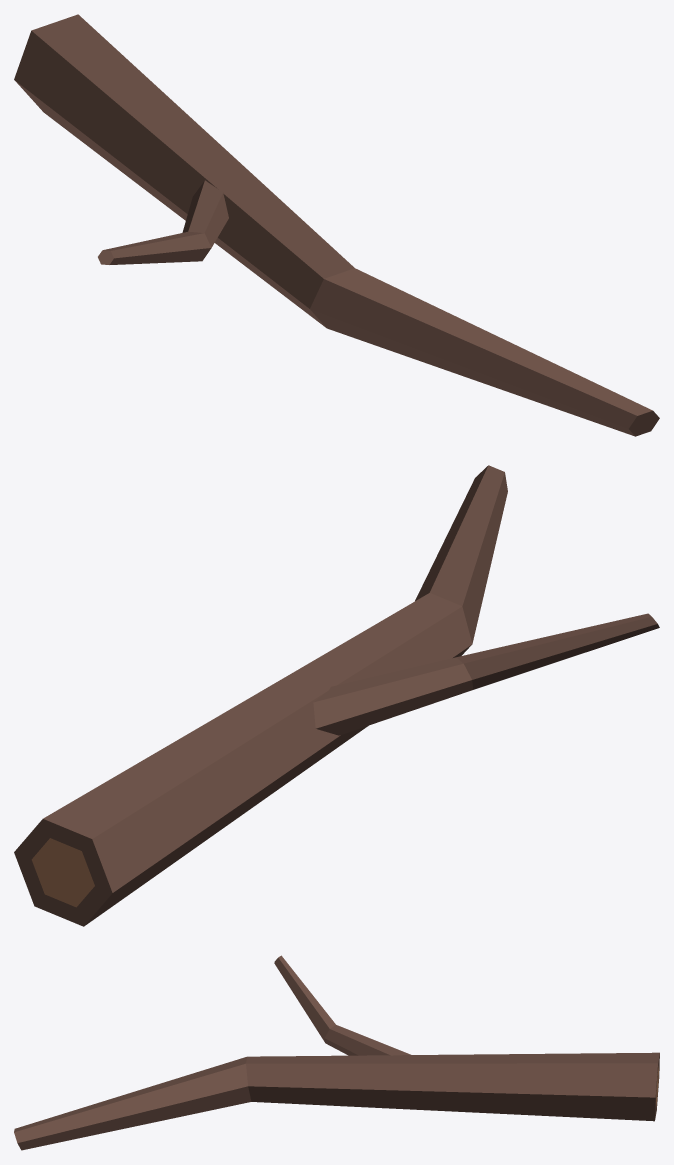
File: Branch_01.fbx
The picture shows the model from 3 angles, top to bottom: view 1: azimuth 30°, elevation 25°; view 2: azimuth 150°, elevation 25°; view 3: azimuth 270°, elevation 25°; orthographic projection. The views are drawn at different scales.
Visible parts, largest first — view 1: Branch_01; view 2: Branch_01; view 3: Branch_01.
Part boxes in pixels (x1,y1,x2,y2): Branch_01: (14, 14, 659, 436); Branch_01: (14, 465, 659, 926); Branch_01: (14, 955, 659, 1150).
Size of the model in its own units: 84.96 by 27.98 by 198.
